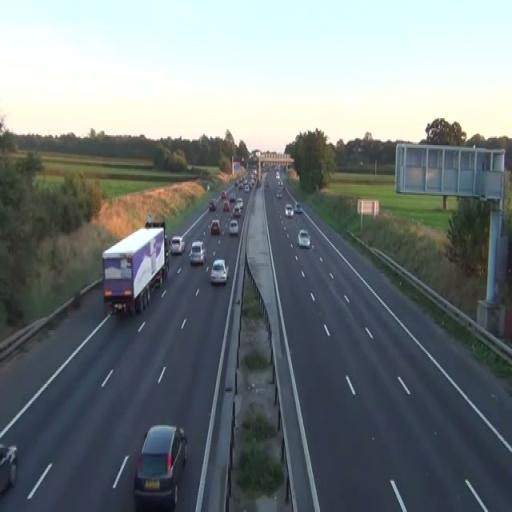Car: (133, 424, 188, 510), (0, 442, 18, 496), (210, 259, 228, 286), (189, 240, 205, 266), (170, 236, 186, 256), (298, 230, 310, 250), (229, 219, 239, 236), (210, 220, 221, 235)
Truck: (102, 225, 167, 318)
